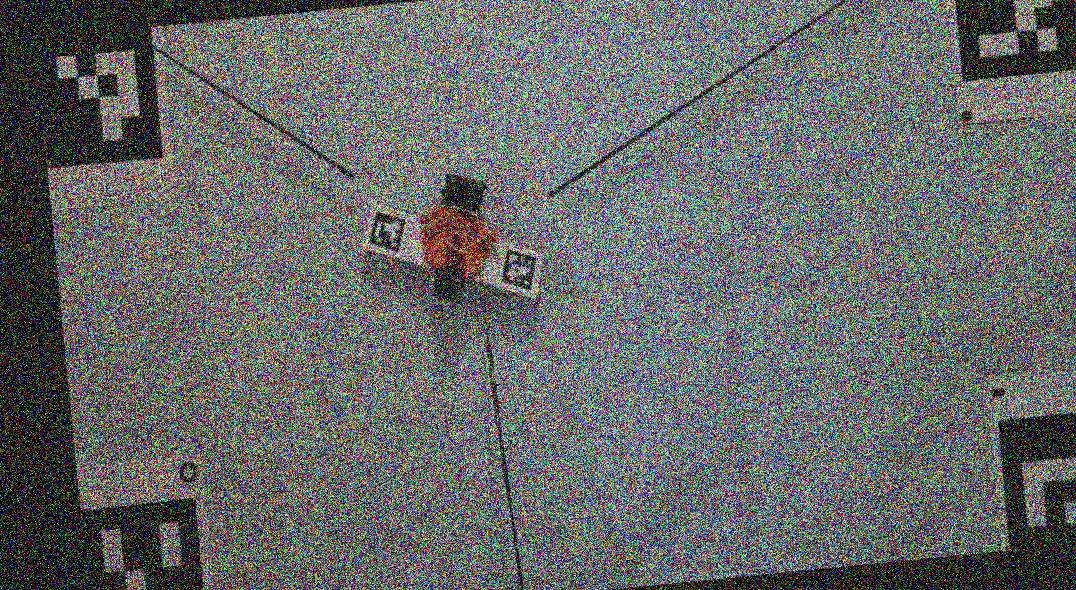robot: (418, 174, 501, 301)
